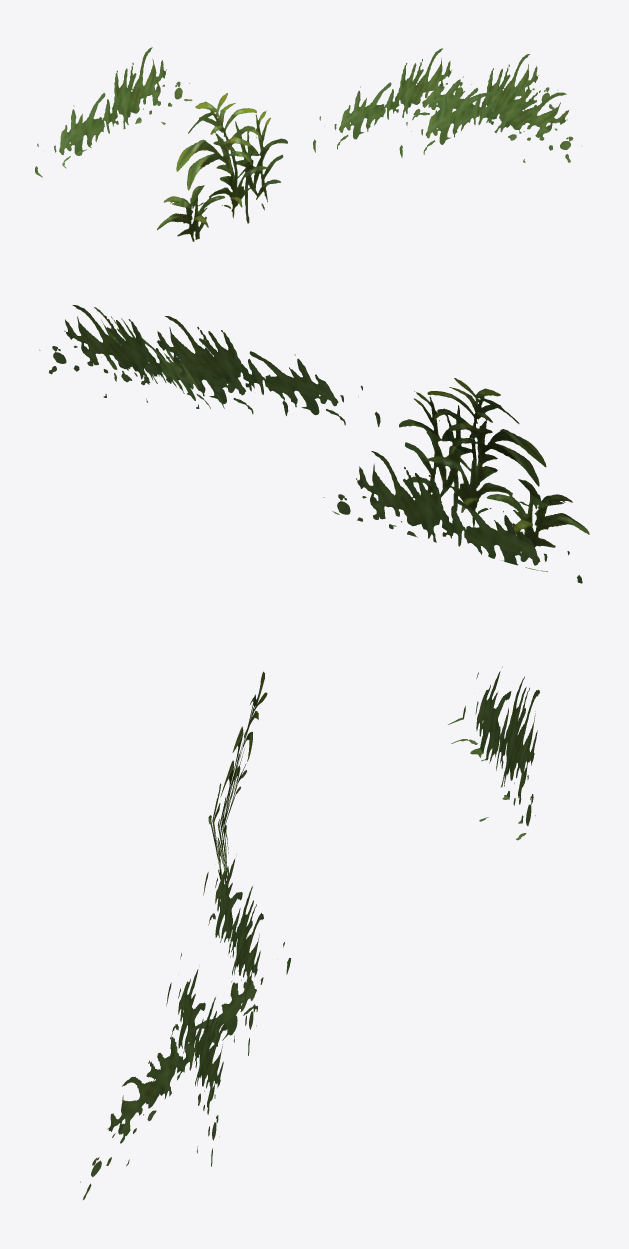
3 renders of one model, top to bottom at view 1: azimuth 30°, elevation 25°; view 2: azimuth 150°, elevation 25°; view 3: azimuth 270°, elevation 25°, orthographic. The views are drawn at different scales.
Visible parts, largest first — view 1: Mesh_33; view 2: Mesh_33; view 3: Mesh_33.
Boxes of the visible parts, left/top/right/bottom form: Mesh_33: left=35, top=47, right=581, bottom=241; Mesh_33: left=39, top=305, right=589, bottom=583; Mesh_33: left=80, top=666, right=539, bottom=1199.
Size of the model in its own units: 2.55 by 0.7258 by 1.09.
